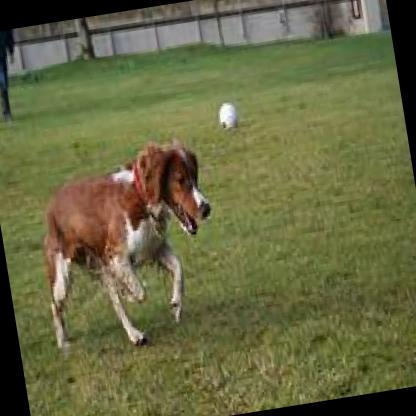Welsh_springer_spaniel: (19, 128, 230, 367)
